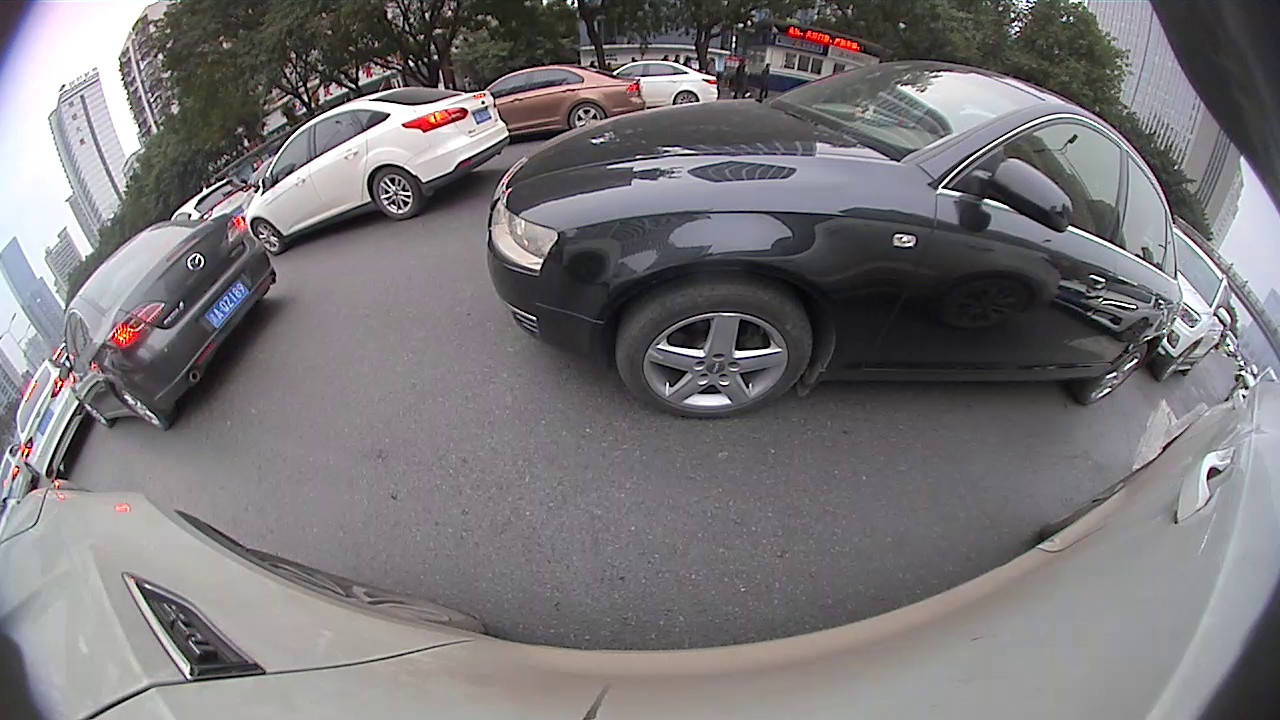car: (486, 61, 1186, 420), (59, 214, 280, 431), (242, 85, 509, 255), (1151, 225, 1231, 385), (485, 65, 649, 133), (12, 356, 88, 480), (609, 59, 720, 108), (167, 182, 255, 222), (0, 444, 35, 511)
front: (614, 289, 817, 419), (1159, 341, 1201, 385), (251, 218, 286, 255), (76, 398, 112, 428)
rear: (1079, 345, 1149, 408), (370, 169, 420, 218), (115, 386, 170, 430), (568, 101, 605, 129), (669, 91, 700, 103)
